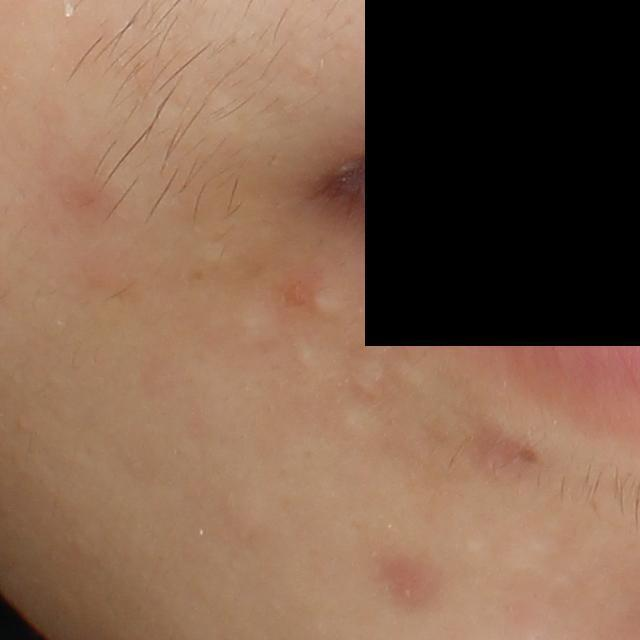hypertrophic_scar: (341, 400, 388, 450), (389, 355, 443, 396), (235, 306, 272, 354), (293, 336, 319, 376)
